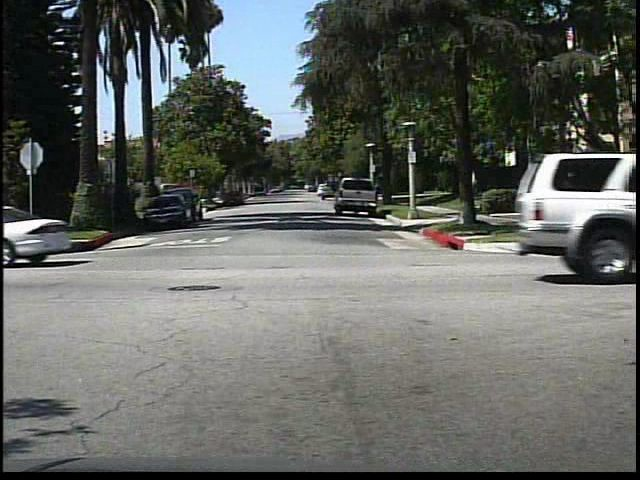person: (555, 167, 585, 237)
